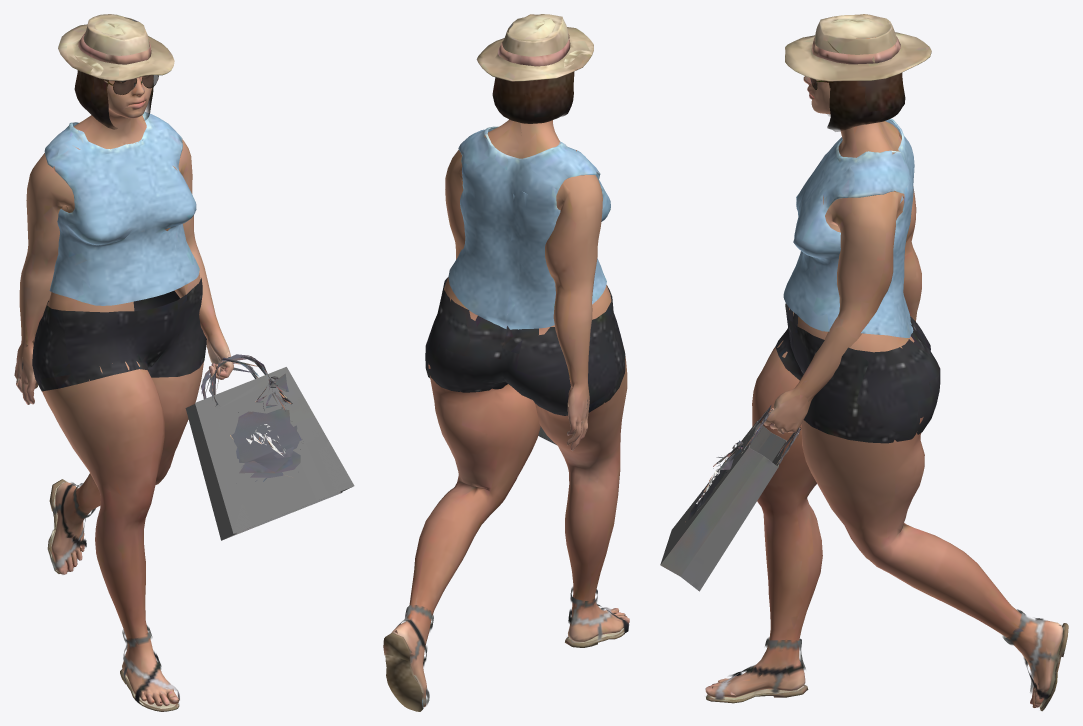
3 renders of one model, left to right at view 1: azimuth 30°, elevation 25°; view 2: azimuth 150°, elevation 25°; view 3: azimuth 270°, elevation 25°, orthographic. The views are drawn at different scales.
Parts seen in each view (by area): view 1: p02162; view 2: p02162; view 3: p02162.
Part boxes in pixels (<box>): p02162: <box>14,14,354,711</box>; p02162: <box>383,14,629,711</box>; p02162: <box>660,14,1068,711</box>.
Bounding box in the file's own units: 0.581 × 1.52 × 0.8222.
Materials: 1 (1 with a texture image).
